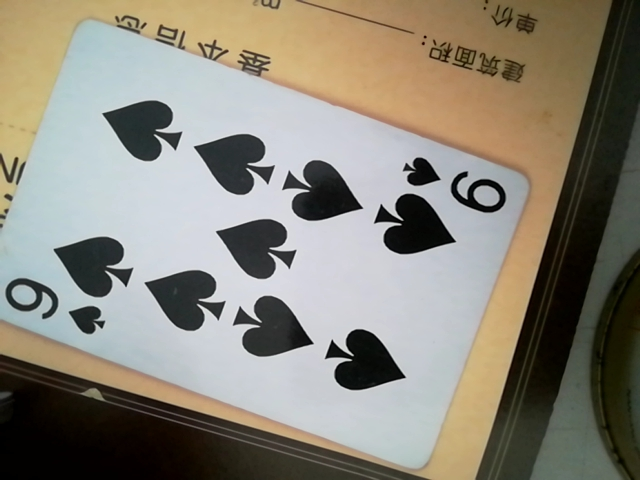ht 9: (0, 23, 529, 472)
